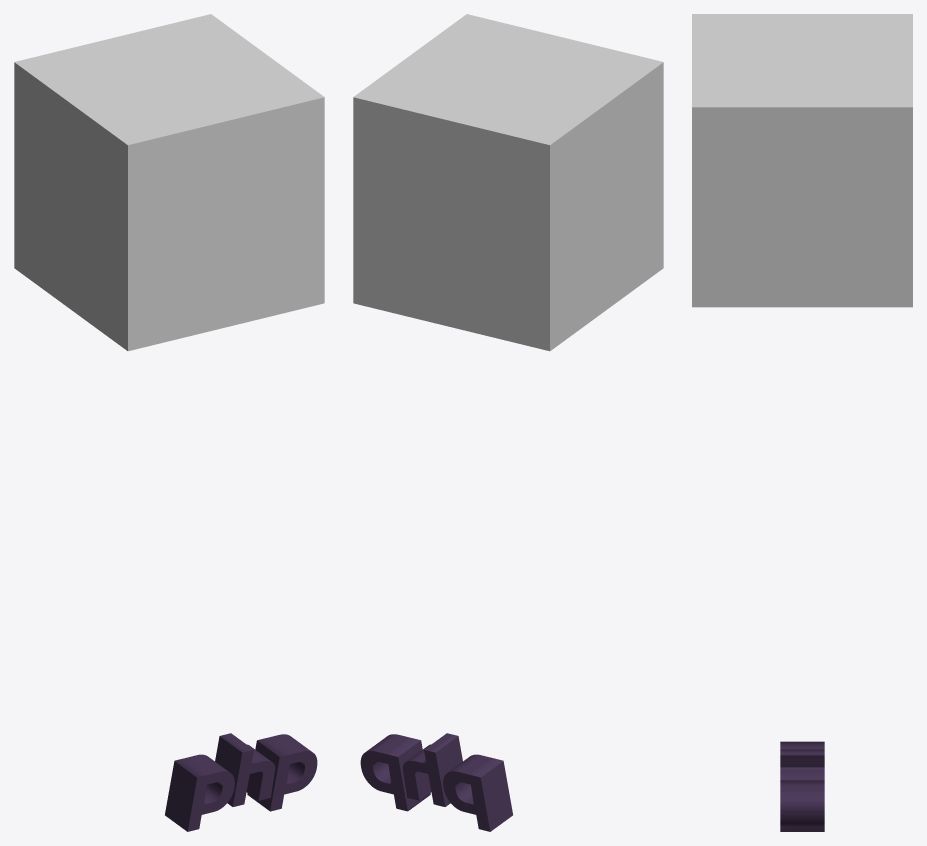
Rendered from php.glb.
3 views of the same model, side by side, from view 1: azimuth 30°, elevation 25°; view 2: azimuth 150°, elevation 25°; view 3: azimuth 270°, elevation 25° (orthographic). The views are drawn at different scales.
Visible parts, largest first — view 1: Cube, path470; view 2: Cube, path470; view 3: Cube, path470.
Part boxes in pixels (x1,y1,x2,y2): Cube: (14,14,324,351); path470: (165,733,317,831); Cube: (353,14,663,351); path470: (360,733,512,831); Cube: (692,14,912,307); path470: (780,741,824,831).
Bounding box in the file's own units: 2.38 × 7.24 × 2.
